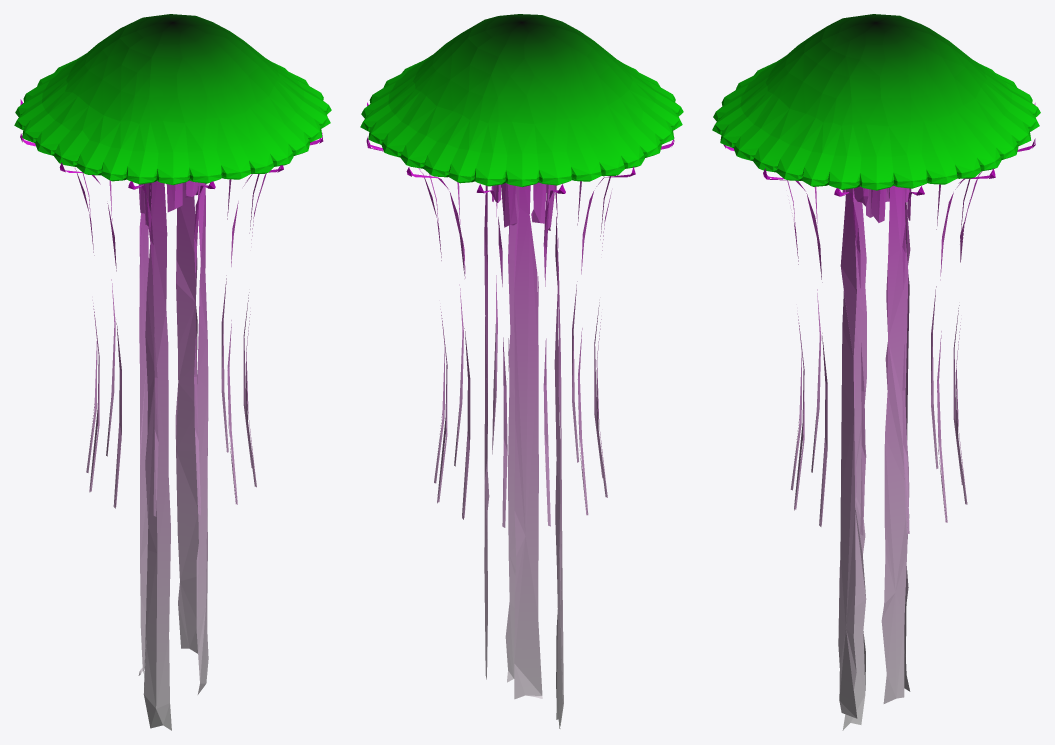
Rendered from jellyfish.glb.
3 views of the same model, side by side, from view 1: azimuth 30°, elevation 25°; view 2: azimuth 150°, elevation 25°; view 3: azimuth 270°, elevation 25° (orthographic). The views are drawn at different scales.
Parts seen in each view (by area): view 1: Object02_01 - Default_0; view 2: Object02_01 - Default_0; view 3: Object02_01 - Default_0.
Boxes of the visible parts, box(x1,y1,x2,y2) form: Object02_01 - Default_0: box(14, 14, 331, 730); Object02_01 - Default_0: box(360, 14, 683, 728); Object02_01 - Default_0: box(712, 14, 1040, 730).
Bounding box in the file's own units: 2 × 4.9 × 2.03.
